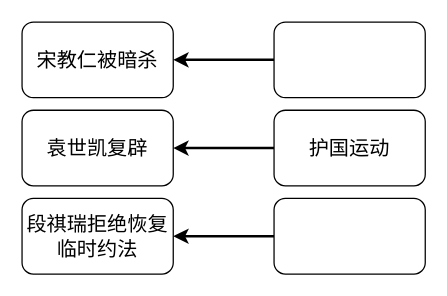
The diagram is 447 pixels wide and 296 high, and some of its shapes have lost their labels. The shapes that lost their labels are listed below. From the top down, each one's centre as x and y in pixels, then its label:
At pixel 349 59: "二次革命".
At pixel 349 235: "护法运动".
